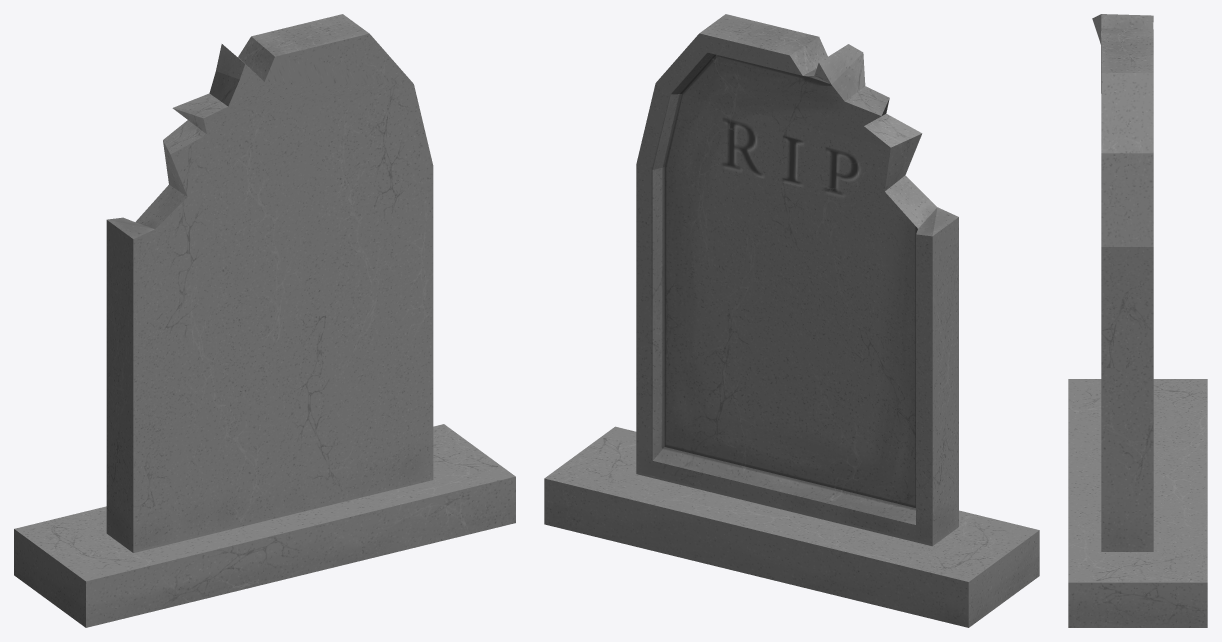
File: broken_grave_02.fbx
3 renders of one model, left to right at view 1: azimuth 30°, elevation 25°; view 2: azimuth 150°, elevation 25°; view 3: azimuth 270°, elevation 25°, orthographic. The views are drawn at different scales.
Parts seen in each view (by area): view 1: broken grave 2; view 2: broken grave 2; view 3: broken grave 2.
Boxes of the visible parts, left/top/right/bottom form: broken grave 2: left=14, top=14, right=515, bottom=627; broken grave 2: left=544, top=14, right=1039, bottom=627; broken grave 2: left=1068, top=14, right=1207, bottom=627.
Bounding box in the file's own units: 0.8909 × 1.01 × 0.2578.
